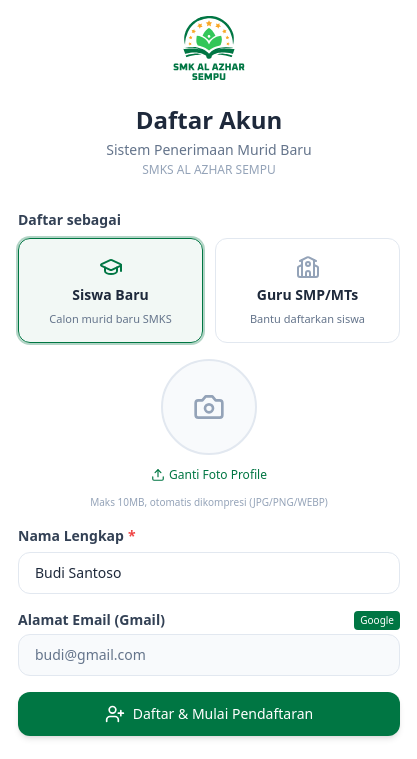
Test: RegisterPage - alur sukses › email sudah terdaftar → pesan tambahan ditampilkan
What coordinates should you click on to do the following:
click the button "Daftar & Mulai Pendaftaran"
I would click on:
 (209, 714)
Its box is [18,692,400,736].
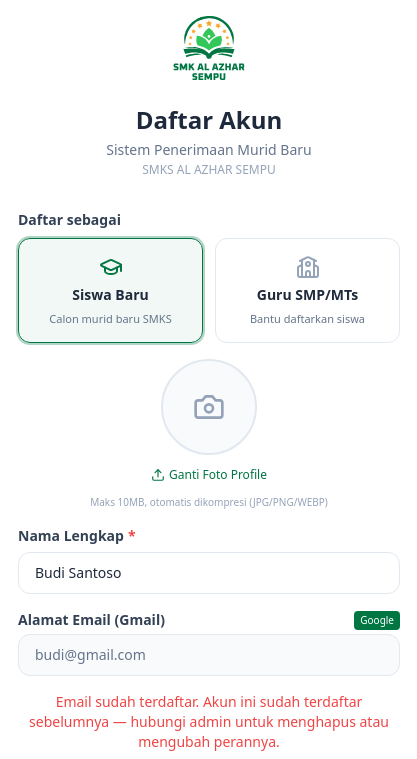
Expected: the text "hubungi admin" is shown, [29,692,389,751]
